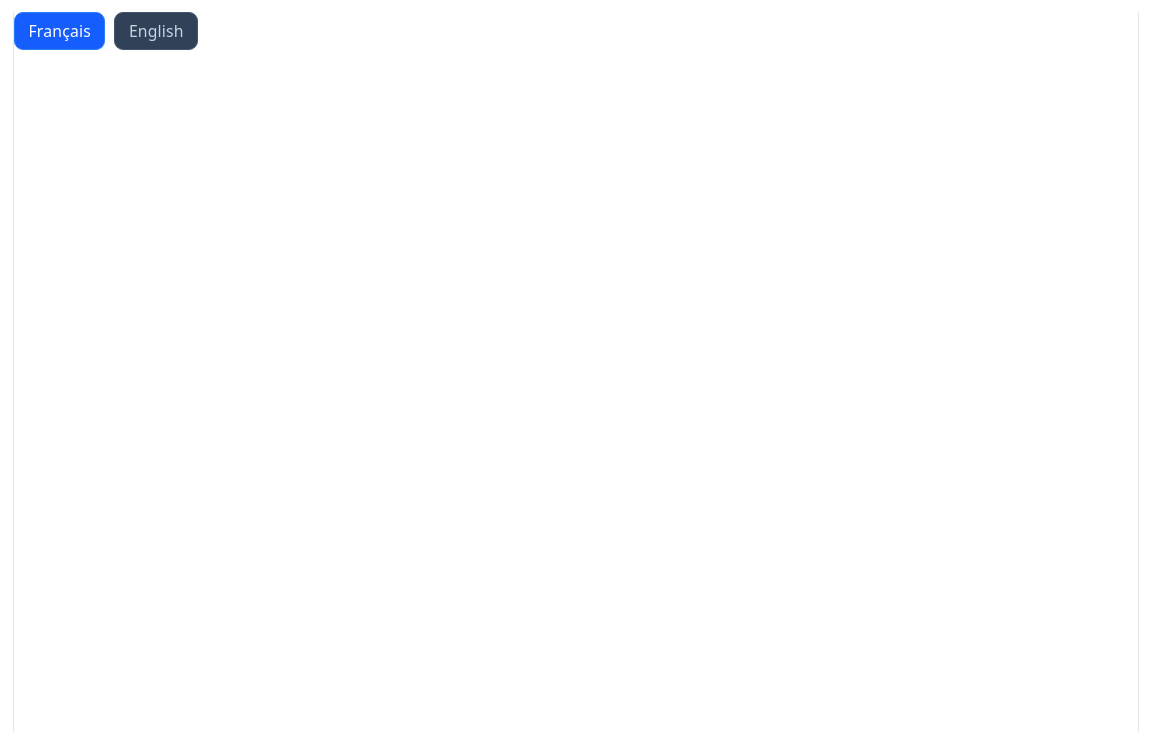
Test: LanguageSwitcher › changes the language without reloading the page
What coordinates should you click on to do the following:
click the button "English"
I would click on:
 (156, 31)
Its box is [114, 12, 198, 50].
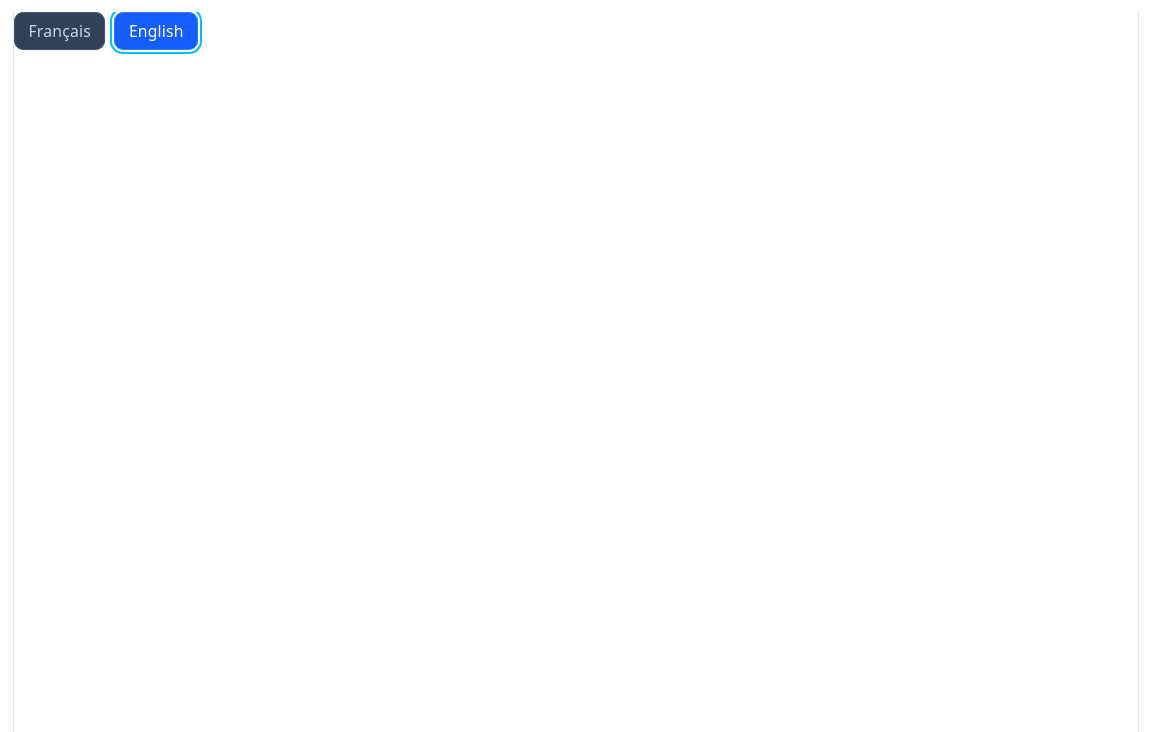
Expected: the button "English" is pressed, [114, 12, 198, 50]
Expected: the button "Français" is not pressed, [14, 12, 105, 50]
